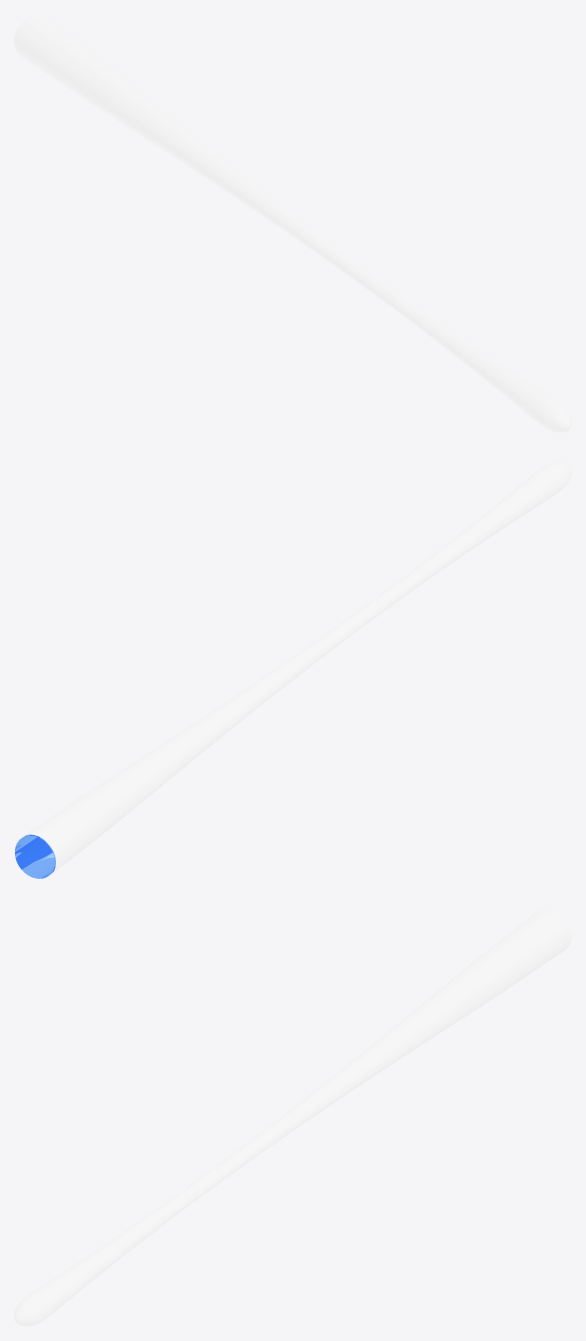
Rendered from BeamRay.fbx.
The picture shows the model from 3 angles, top to bottom: view 1: azimuth 30°, elevation 25°; view 2: azimuth 150°, elevation 25°; view 3: azimuth 330°, elevation 25°; orthographic projection.
Visible parts, largest first — view 1: cylinder_out; view 2: cylinder_out, cylinder_in; view 3: cylinder_out.
Part boxes in pixels (bbox=[...]): cylinder_out: bbox=[14, 14, 571, 432]; cylinder_out: bbox=[14, 461, 571, 879]; cylinder_in: bbox=[15, 834, 55, 878]; cylinder_out: bbox=[14, 908, 571, 1326].
Bounding box in the file's own units: 639 × 639 × 14067.
